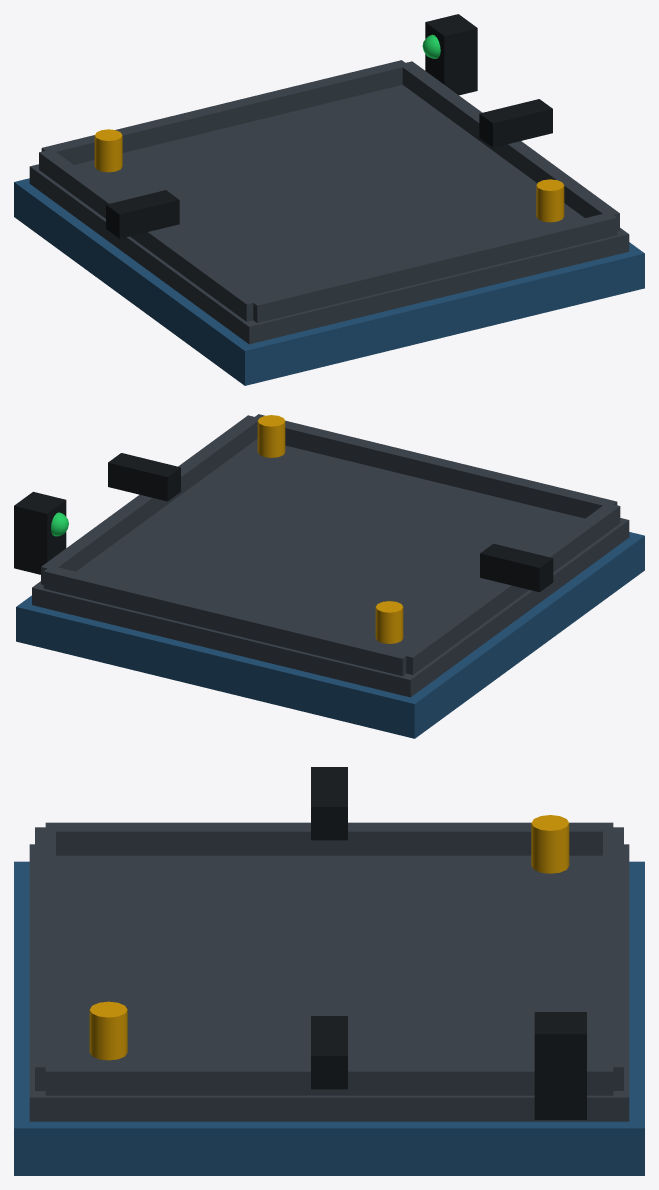
The picture shows the model from 3 angles, top to bottom: view 1: azimuth 30°, elevation 25°; view 2: azimuth 150°, elevation 25°; view 3: azimuth 270°, elevation 25°; orthographic projection. The views are drawn at different scales.
Visible parts, largest first — view 1: pallet:tray, pallet:base, rim:north, rim:south, rim:west, rim:east, sensor:presence:body, fixture:clamp-arm:1, fixture:clamp-arm:2, fixture:locator:1, fixture:locator:4; view 2: pallet:tray, pallet:base, rim:south, rim:north, rim:west, rim:east, sensor:presence:body, fixture:clamp-arm:1, fixture:clamp-arm:2, fixture:locator:4, fixture:locator:1; view 3: pallet:tray, pallet:base, rim:west, rim:east, sensor:presence:body, rim:south, rim:north, fixture:clamp-arm:1, fixture:clamp-arm:2, fixture:locator:1, fixture:locator:4.
Boxes of the visible parts, left/top/right/bottom form: pallet:tray: left=29, top=85, right=629, bottom=344; pallet:base: left=14, top=178, right=644, bottom=385; rim:north: left=250, top=212, right=617, bottom=322; rim:south: left=41, top=60, right=408, bottom=164; rim:west: left=39, top=150, right=257, bottom=321; rim:east: left=399, top=61, right=619, bottom=231; sensor:presence:body: left=425, top=14, right=477, bottom=95; fixture:clamp-arm:1: left=106, top=190, right=179, bottom=238; fixture:clamp-arm:2: left=479, top=99, right=552, bottom=147; fixture:locator:1: left=94, top=129, right=122, bottom=172; fixture:locator:4: left=536, top=179, right=564, bottom=222; pallet:tray: left=32, top=439, right=629, bottom=697; pallet:base: left=16, top=532, right=644, bottom=738; rim:south: left=43, top=565, right=409, bottom=676; rim:north: left=251, top=414, right=617, bottom=518; rim:west: left=402, top=503, right=620, bottom=674; rim:east: left=41, top=415, right=257, bottom=584; sensor:presence:body: left=14, top=491, right=66, bottom=574; fixture:clamp-arm:1: left=480, top=543, right=553, bottom=592; fixture:clamp-arm:2: left=108, top=453, right=180, bottom=501; fixture:locator:4: left=257, top=415, right=285, bottom=457; fixture:locator:1: left=375, top=601, right=403, bottom=643; pallet:tray: left=29, top=844, right=629, bottom=1121; pallet:base: left=14, top=861, right=644, bottom=1175; rim:west: left=45, top=822, right=613, bottom=855; rim:east: left=45, top=1062, right=613, bottom=1095; sensor:presence:body: left=534, top=1012, right=586, bottom=1119; rim:south: left=603, top=827, right=623, bottom=1090; rim:north: left=35, top=827, right=55, bottom=1090; fixture:clamp-arm:1: left=311, top=767, right=347, bottom=840; fixture:clamp-arm:2: left=311, top=1016, right=347, bottom=1089; fixture:locator:1: left=531, top=815, right=569, bottom=873; fixture:locator:4: left=89, top=1001, right=127, bottom=1060.
Size of the model in its own units: 0.66 by 0.165 by 0.6.
